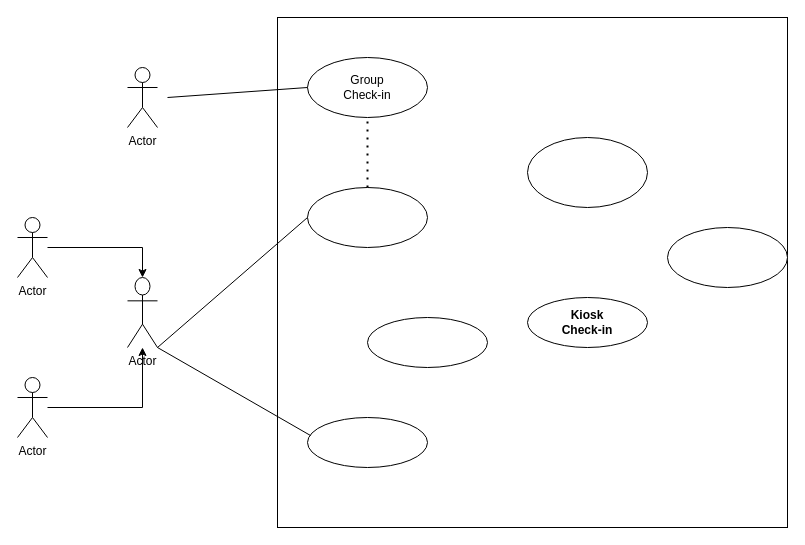
Image size: 805x545. Some labels were removed from this diagram. The centre of each missing label's shape, as x and y in pixels:
Individual Check-in: (367,217)
Security Screening: (367,442)
